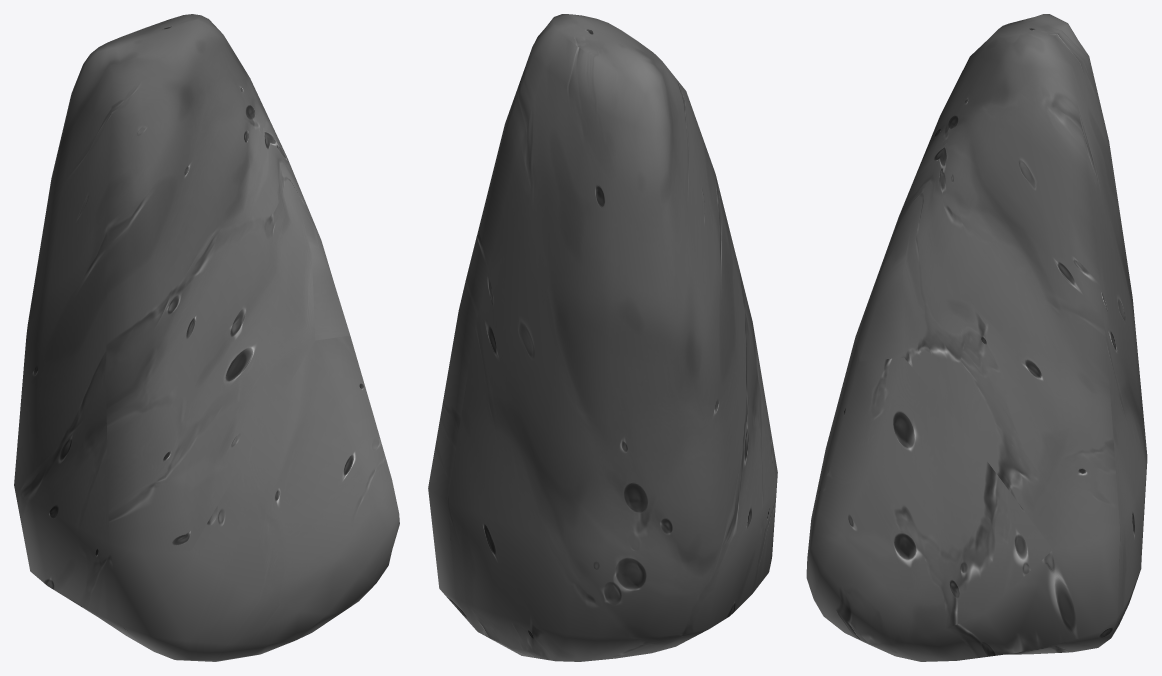
Rendered from SM_ENV_stone_09.fbx.
3 renders of one model, left to right at view 1: azimuth 30°, elevation 25°; view 2: azimuth 150°, elevation 25°; view 3: azimuth 270°, elevation 25°, orthographic. The views are drawn at different scales.
Parts seen in each view (by area): view 1: SM_ENV_stone_09_LOD0; view 2: SM_ENV_stone_09_LOD0; view 3: SM_ENV_stone_09_LOD0.
Part boxes in pixels (box(x1,y1,x2,y2)): SM_ENV_stone_09_LOD0: box(14, 14, 399, 661); SM_ENV_stone_09_LOD0: box(428, 14, 777, 661); SM_ENV_stone_09_LOD0: box(806, 14, 1147, 661).
Size of what is drawn, in the model's own units: 165 by 323 by 167.
